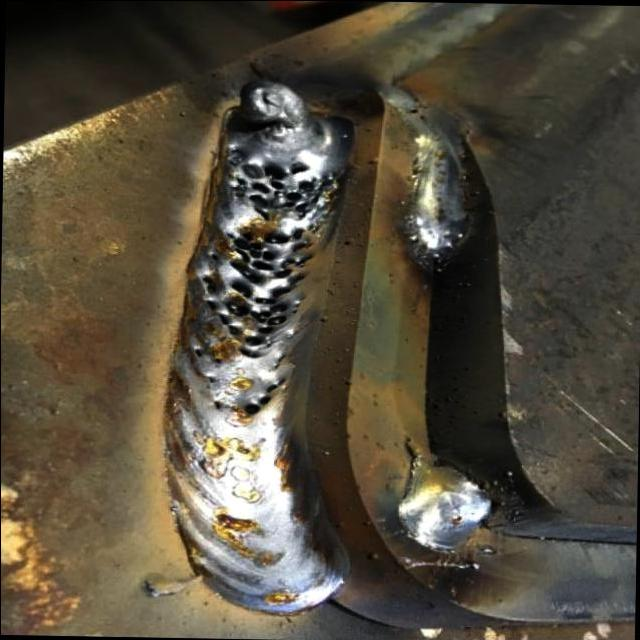defect: (197, 224, 319, 356), (229, 155, 337, 224), (236, 373, 296, 424), (269, 348, 292, 368), (206, 394, 226, 413), (189, 347, 205, 361), (205, 375, 217, 387), (212, 356, 227, 365)
